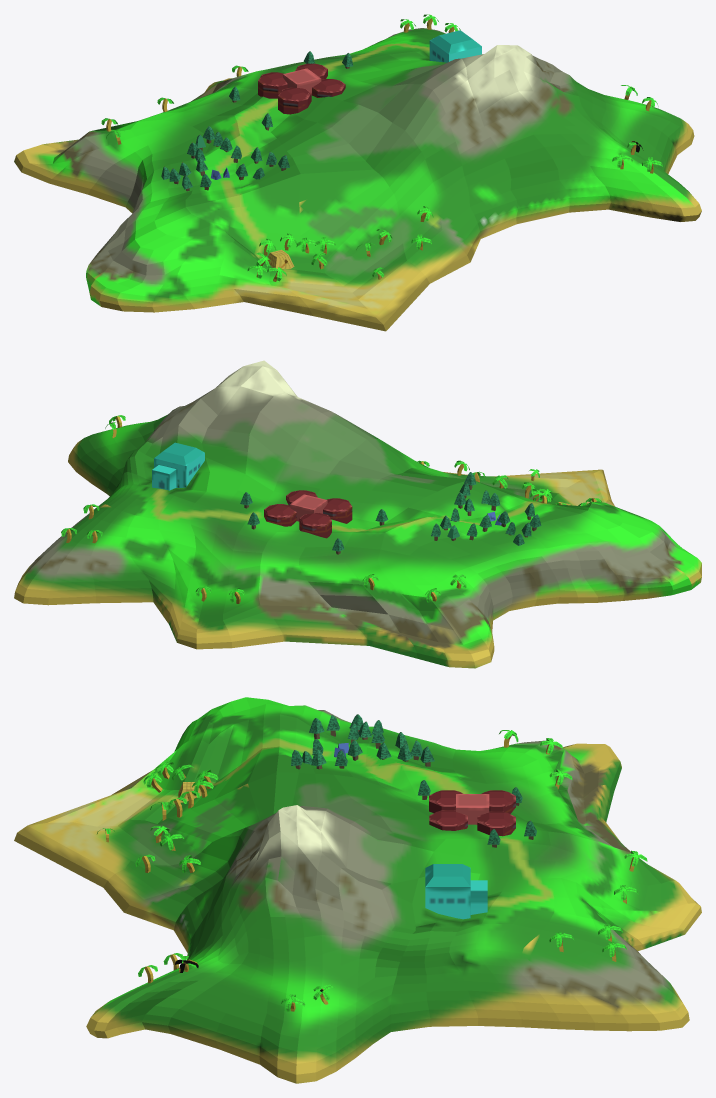
Rendered from Map.obj.
3 views of the same model, one above another, from view 1: azimuth 30°, elevation 25°; view 2: azimuth 150°, elevation 25°; view 3: azimuth 270°, elevation 25° (orthographic). The views are drawn at different scales.
Parts seen in each view (by area): view 1: Cube.030; view 2: Cube.030; view 3: Cube.030.
Boxes of the visible parts, bbox=[...] form: Cube.030: bbox=[14, 14, 701, 331]; Cube.030: bbox=[14, 360, 701, 668]; Cube.030: bbox=[14, 697, 701, 1083].
Bounding box in the file's own units: 7.81 × 1.75 × 6.31.
